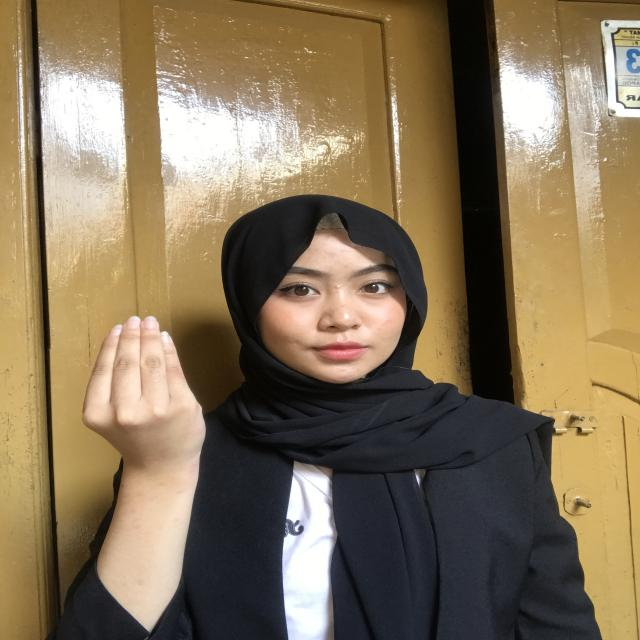kapan: (36, 284, 245, 483)
